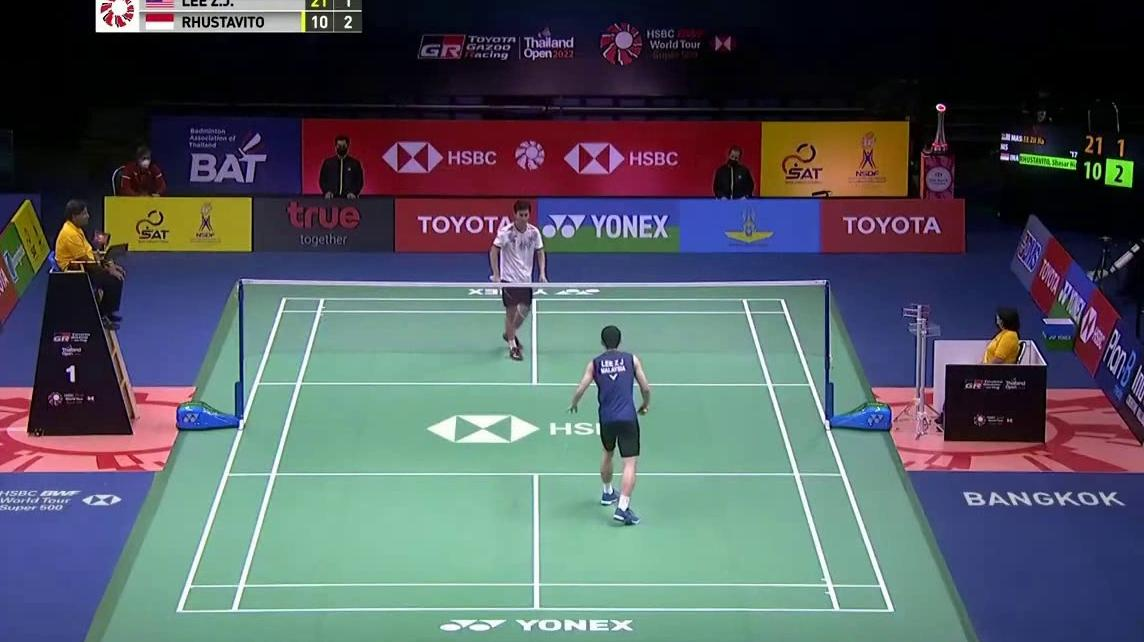racket: (489, 275, 533, 320)
